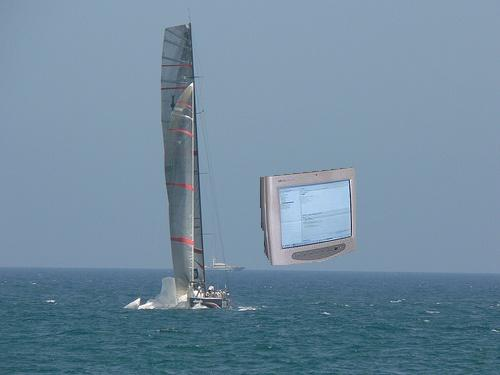tampered: (261, 168, 356, 265)
